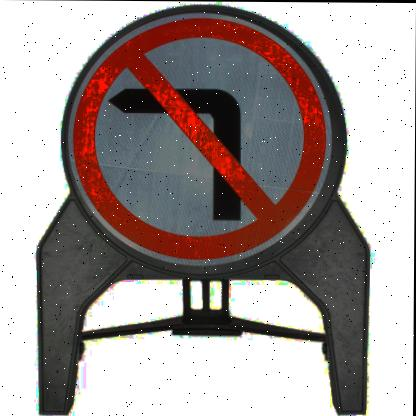No left turn: (62, 9, 343, 278)
